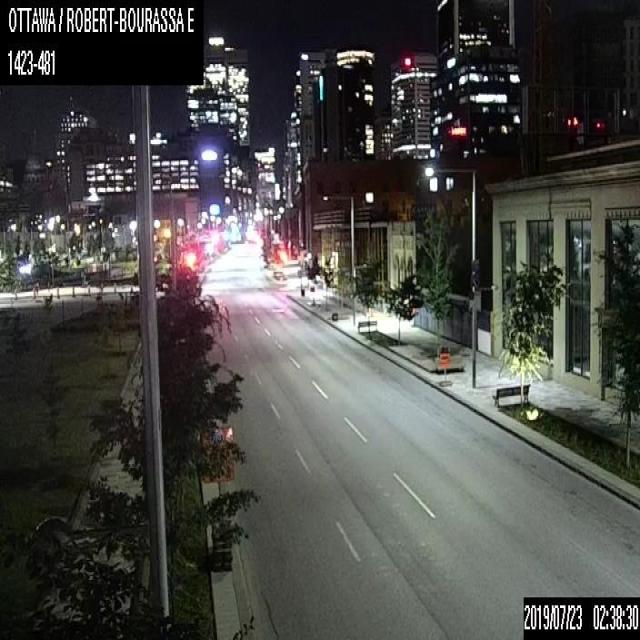construction: (198, 423, 234, 570), (437, 350, 450, 386)
